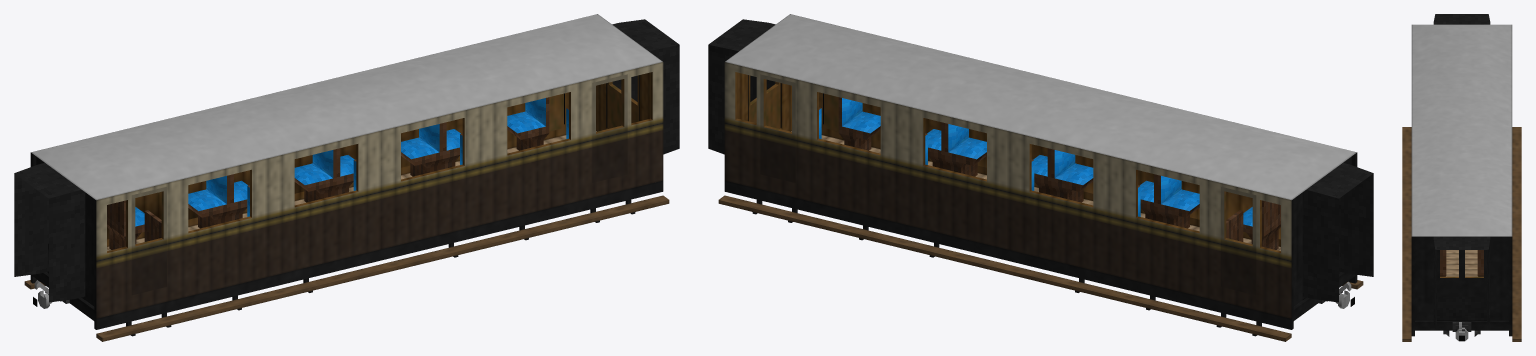
File: sur_102a6_so.obj
The picture shows the model from 3 angles, left to right: view 1: azimuth 30°, elevation 25°; view 2: azimuth 150°, elevation 25°; view 3: azimuth 270°, elevation 25°; orthographic projection. The views are drawn at different scales.
Parts seen in each view (by area): view 1: SHELL_WOOD_ext, SHELL_WOOD_roof, corridor_front, FRAME, SHELL_WOOD_int, corridor_rear, DOOR_8_EXTERNAL, DOOR_6_EXTERNAL, bench.003, bench.001, bench.005, bench.007 (+3 smaller); view 2: SHELL_WOOD_ext, SHELL_WOOD_roof, corridor_front, FRAME, SHELL_WOOD_int, corridor_rear, DOOR_7_EXTERNAL, DOOR_5_EXTERNAL, bench.002, bench, bench.009, bench.006 (+3 smaller); view 3: SHELL_WOOD_roof, SHELL_WOOD_ext, corridor_rear, COUPLED_REAR_4, SHELL_WOOD_int, DOOR_3_CONNECTING, DOOR_4_CONNECTING, corridor_front, COUPLER_ENGAGED_REAR_2_TOGGLE_LABEL_Uncouple, bench.006, bench.007.
Part boxes in pixels (x1=…): SHELL_WOOD_ext: x1=24, y1=62, x2=669, y2=341; SHELL_WOOD_roof: x1=31, y1=14, x2=662, y2=200; corridor_front: x1=14, y1=163, x2=85, y2=302; FRAME: x1=30, y1=180, x2=663, y2=329; SHELL_WOOD_int: x1=107, y1=72, x2=652, y2=252; corridor_rear: x1=612, y1=19, x2=679, y2=154; DOOR_8_EXTERNAL: x1=131, y1=187, x2=166, y2=295; DOOR_6_EXTERNAL: x1=592, y1=74, x2=627, y2=182; bench.003: x1=294, y1=148, x2=354, y2=202; bench.001: x1=188, y1=174, x2=247, y2=228; bench.005: x1=401, y1=122, x2=460, y2=176; bench.007: x1=507, y1=97, x2=549, y2=150; SHELL_WOOD_ext: x1=718, y1=62, x2=1363, y2=341; SHELL_WOOD_roof: x1=725, y1=14, x2=1356, y2=200; corridor_front: x1=1302, y1=163, x2=1373, y2=302; FRAME: x1=724, y1=180, x2=1357, y2=329; SHELL_WOOD_int: x1=735, y1=72, x2=1280, y2=252; corridor_rear: x1=708, y1=19, x2=775, y2=154; DOOR_7_EXTERNAL: x1=1221, y1=187, x2=1256, y2=295; DOOR_5_EXTERNAL: x1=760, y1=74, x2=795, y2=182; bench.002: x1=1033, y1=148, x2=1093, y2=202; bench: x1=1140, y1=174, x2=1199, y2=228; bench.009: x1=927, y1=122, x2=986, y2=176; bench.006: x1=838, y1=97, x2=880, y2=150; SHELL_WOOD_roof: x1=1411, y1=24, x2=1512, y2=236; SHELL_WOOD_ext: x1=1402, y1=127, x2=1521, y2=341; corridor_rear: x1=1433, y1=236, x2=1490, y2=328; COUPLED_REAR_4: x1=1437, y1=296, x2=1486, y2=320; SHELL_WOOD_int: x1=1446, y1=250, x2=1477, y2=276; DOOR_3_CONNECTING: x1=1437, y1=250, x2=1461, y2=308; DOOR_4_CONNECTING: x1=1462, y1=250, x2=1486, y2=308; corridor_front: x1=1433, y1=14, x2=1490, y2=24; COUPLER_ENGAGED_REAR_2_TOGGLE_LABEL_Uncouple: x1=1452, y1=322, x2=1471, y2=341; bench.006: x1=1440, y1=250, x2=1446, y2=276; bench.007: x1=1477, y1=250, x2=1483, y2=276.
Size of the model in its own units: 11.12 by 2.62 by 2.38.
Materials: 6 (6 with a texture image).
